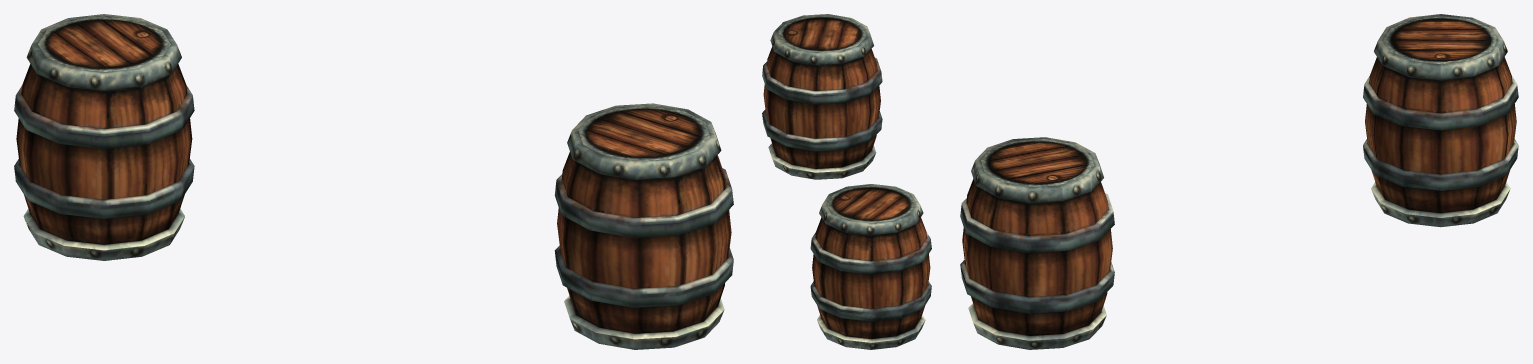
The model's file is PUSH1_BARRELS.fbx.
The picture shows the model from 3 angles, left to right: view 1: azimuth 30°, elevation 25°; view 2: azimuth 150°, elevation 25°; view 3: azimuth 270°, elevation 25°; orthographic projection. The views are drawn at different scales.
Visible parts, largest first — view 1: PUSH1_BARRELS; view 2: PUSH1_BARRELS; view 3: PUSH1_BARRELS.
Part boxes in pixels (<box>): PUSH1_BARRELS: <box>14,14,733,349</box>; PUSH1_BARRELS: <box>762,14,931,349</box>; PUSH1_BARRELS: <box>960,14,1518,349</box>.
Size of the model in its own units: 23287 by 9241 by 28237.
Materials: 2 (2 with a texture image).
